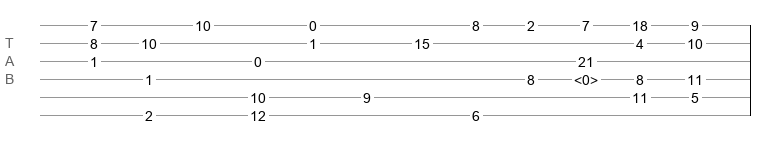0: (254, 54, 262, 64), (309, 18, 317, 28)
1: (90, 54, 98, 64), (145, 72, 153, 82), (309, 36, 317, 46)
10: (141, 36, 157, 46), (195, 18, 211, 28), (250, 90, 266, 100), (687, 36, 703, 46)
11: (632, 90, 648, 100), (687, 72, 703, 82)
12: (250, 108, 266, 118)
15: (414, 36, 430, 46)
18: (632, 18, 648, 28)
2: (145, 108, 153, 118), (527, 18, 535, 28)
21: (578, 54, 594, 64)
4: (636, 36, 644, 46)
5: (691, 90, 699, 100)
6: (472, 108, 480, 118)
7: (90, 18, 98, 28), (582, 18, 590, 28)
8: (90, 36, 98, 46), (472, 18, 480, 28), (527, 72, 535, 82), (636, 72, 644, 82)
9: (363, 90, 371, 100), (691, 18, 699, 28)
harmonic: (574, 72, 598, 82)
